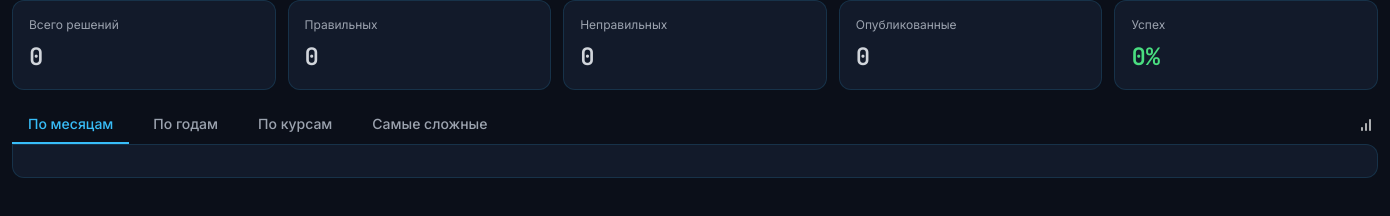
Scenario: Solutions › paginates hardest steps
Click the button "Самые сложные": (430, 125) [356,106,503,144]
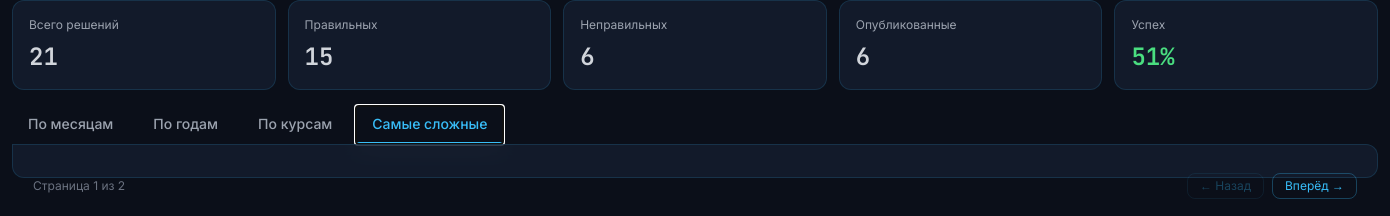
Now the text "Страница 1 из 2" is shown, box [33,178,125,194]
Click the button "Вперёд →": (1314, 186) [1272,173,1357,199]
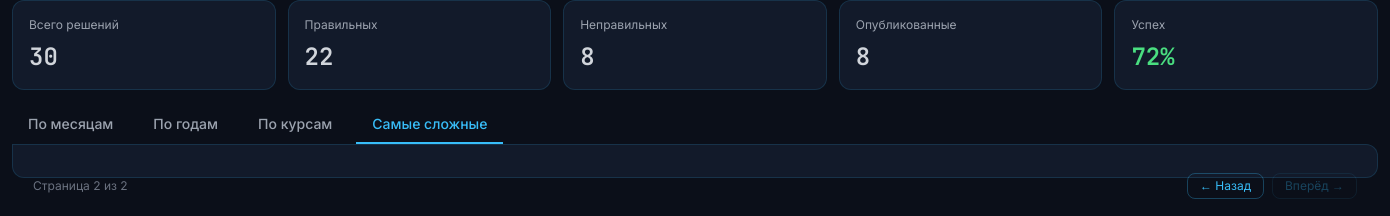
Now the text "Страница 2 из 2" is shown, box [33,178,128,194]
